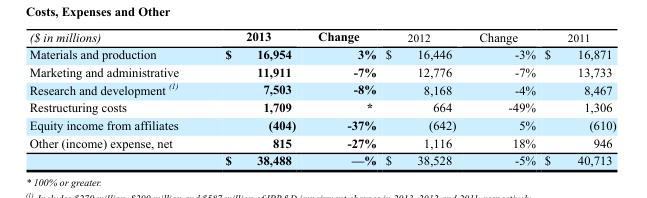table: (28, 29, 615, 167)
table column: (28, 29, 201, 167), (201, 29, 306, 167), (380, 29, 466, 167), (539, 29, 615, 167), (306, 29, 380, 167), (466, 29, 539, 167)
table column header: (28, 29, 615, 45)
table row: (28, 79, 615, 98), (28, 115, 615, 133), (28, 133, 615, 151), (28, 45, 615, 62), (28, 62, 615, 79), (28, 98, 615, 115), (28, 29, 615, 45), (28, 151, 615, 167)
